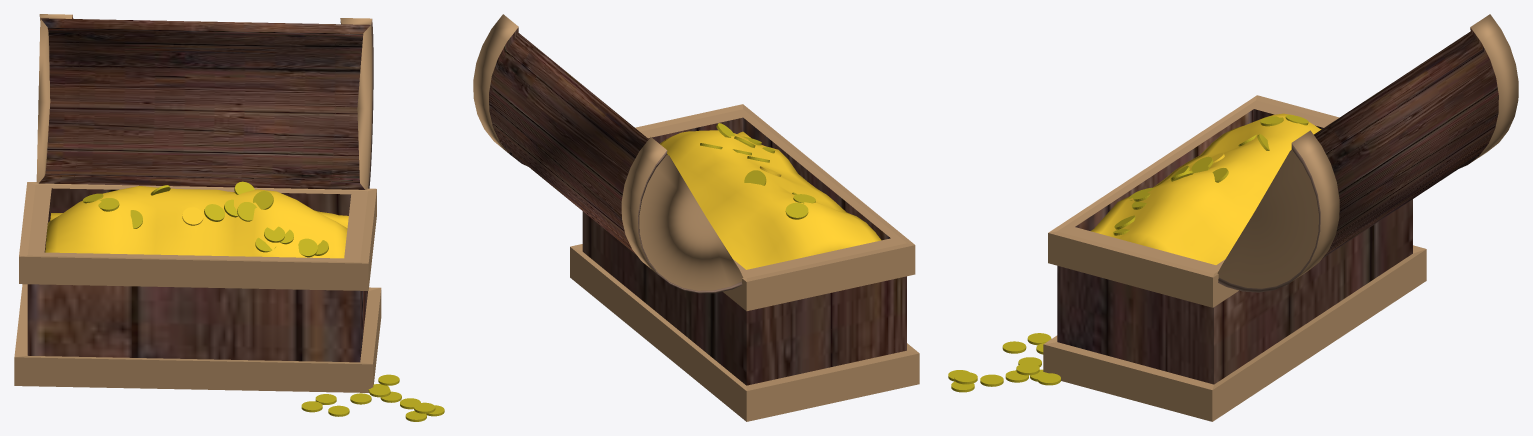
File: Tesouro.glb
The picture shows the model from 3 angles, left to right: view 1: azimuth 30°, elevation 25°; view 2: azimuth 150°, elevation 25°; view 3: azimuth 270°, elevation 25°; orthographic projection. The views are drawn at different scales.
Visible parts, largest first — view 1: Circle, Cube, Plane; view 2: Cube, Circle, Plane; view 3: Cube, Circle, Plane.
Boxes of the visible parts, box(x1,y1,x2,y2) form: Circle: box(36, 14, 373, 189); Cube: box(14, 182, 381, 392); Plane: box(45, 186, 348, 258); Cube: box(570, 104, 919, 421); Circle: box(473, 14, 743, 293); Plane: box(660, 130, 881, 269); Cube: box(1043, 95, 1426, 421); Circle: box(1217, 14, 1518, 292); Plane: box(1090, 113, 1321, 264).
Bounding box in the file's own units: 3.47 × 2.27 × 4.
32 materials, 1 textured.
